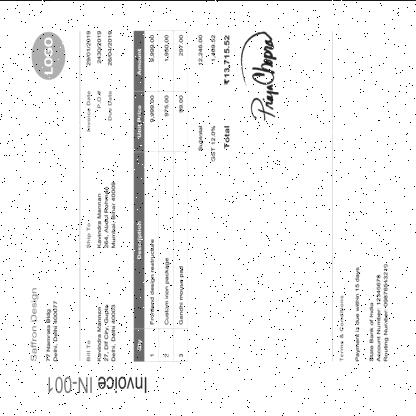Paragraph: (338, 261, 390, 363), (196, 30, 232, 163), (86, 29, 114, 132), (84, 300, 118, 364), (30, 286, 58, 362), (86, 180, 116, 249)
Table: (134, 29, 188, 361)
